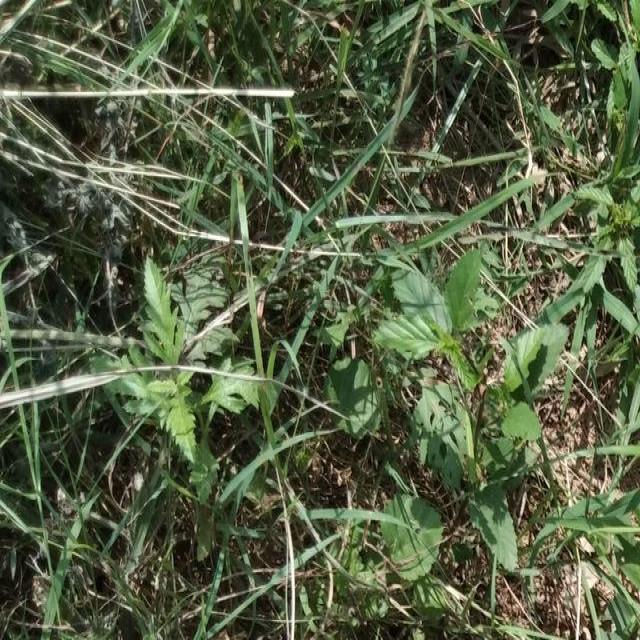weed: (384, 270, 558, 556), (106, 264, 266, 471)
